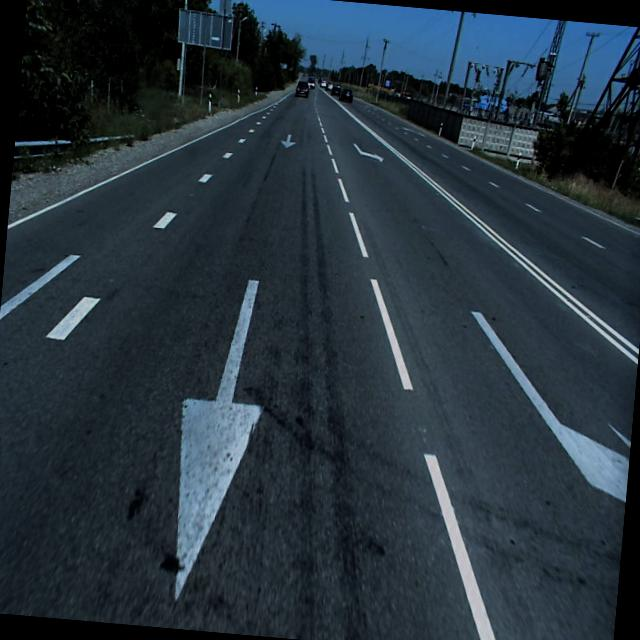road: (0, 83, 640, 640)
